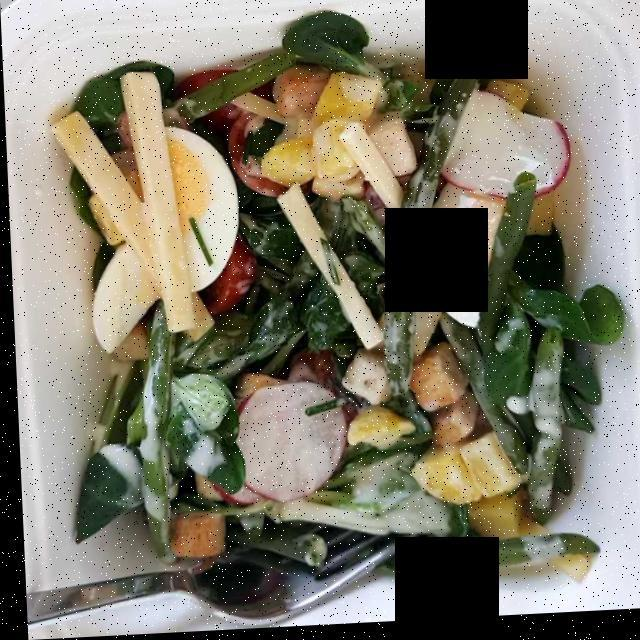egg: (67, 120, 491, 363), (80, 140, 505, 361)
salad: (54, 28, 612, 591)
